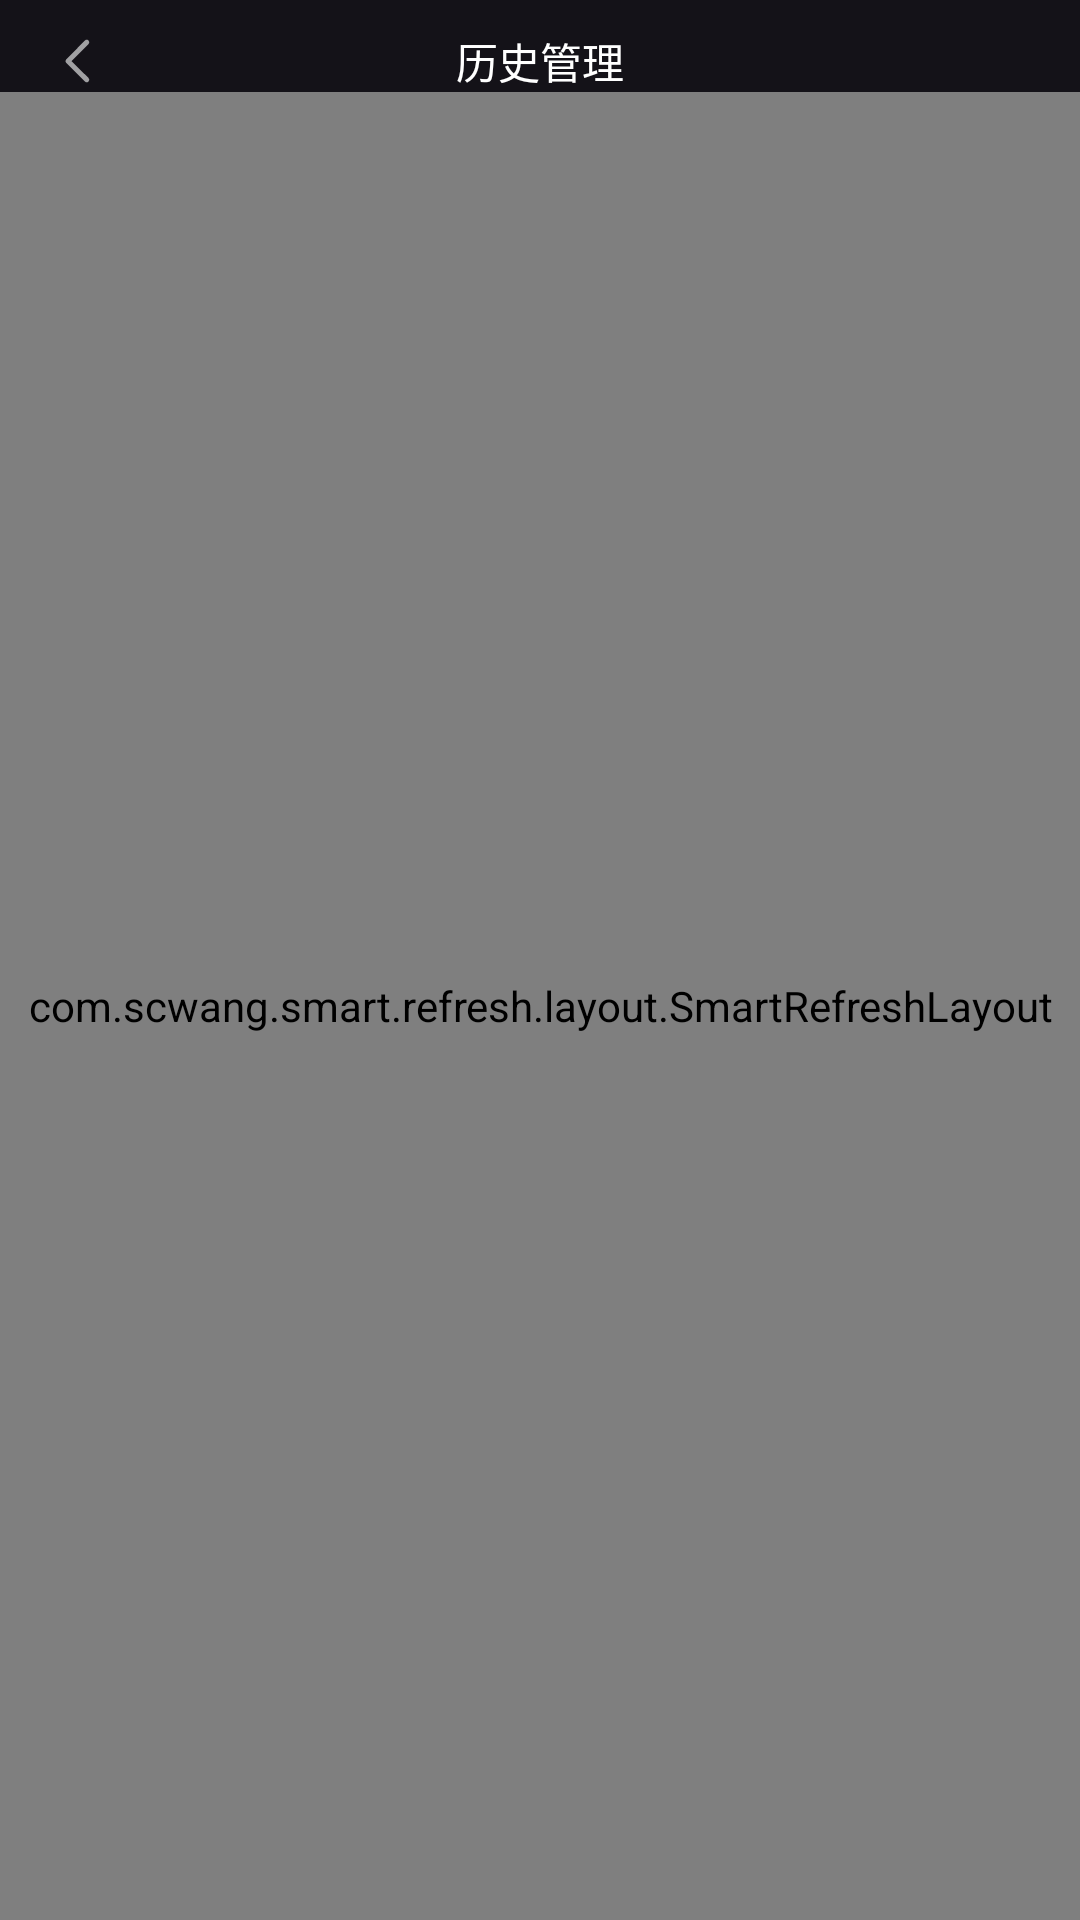

Point at icon controls on the screen. Image size 1080px x 1920px, points as point (x, y).
back: point (77, 61)
